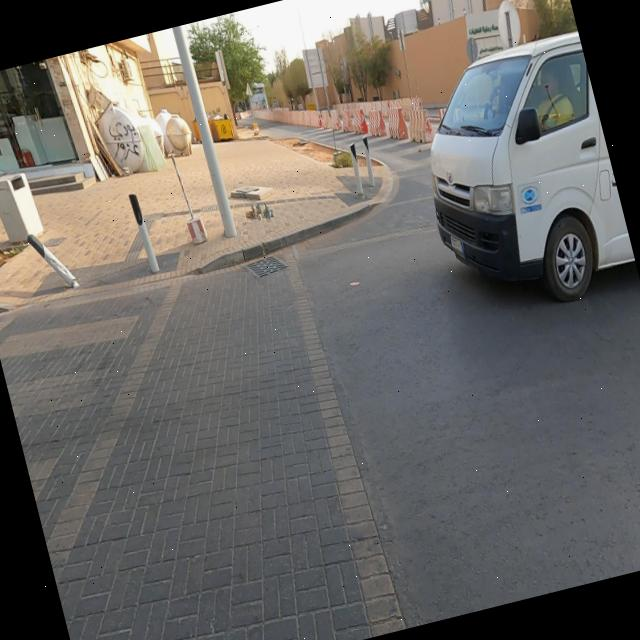Graffiti: (106, 118, 146, 168), (209, 108, 223, 119)
